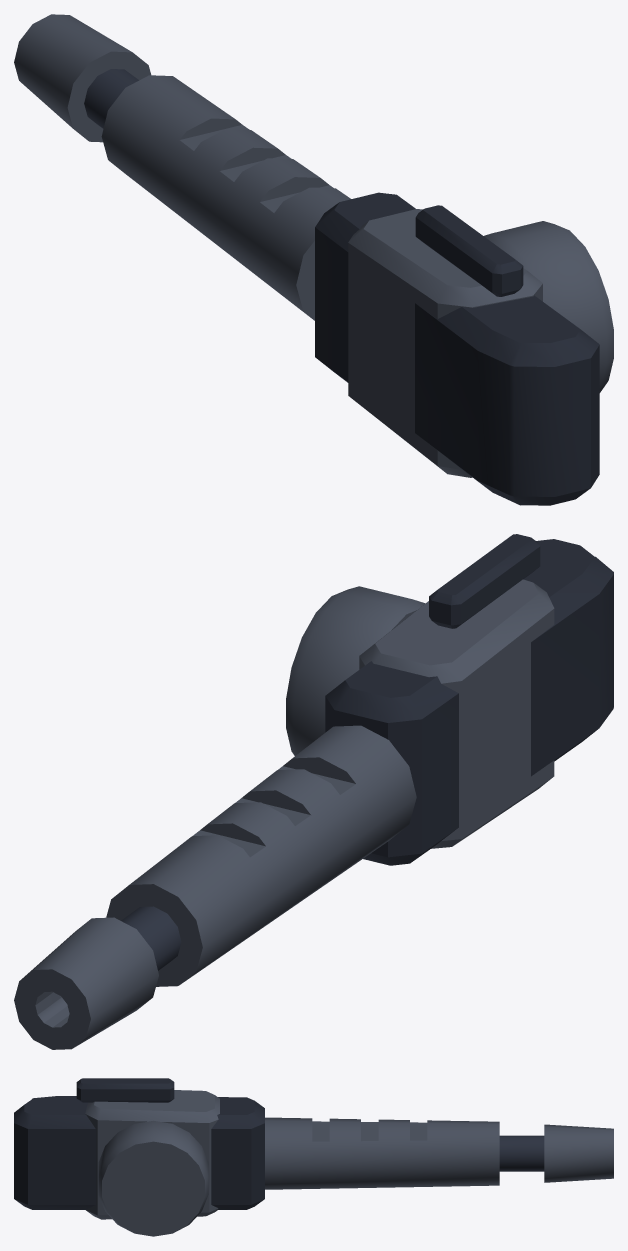
The model's file is w_a_support_gun.glb.
The picture shows the model from 3 angles, top to bottom: view 1: azimuth 30°, elevation 25°; view 2: azimuth 150°, elevation 25°; view 3: azimuth 270°, elevation 25°; orthographic projection. The views are drawn at different scales.
Parts seen in each view (by area): view 1: weapon_body, weapon_metal; view 2: weapon_body, weapon_metal; view 3: weapon_body, weapon_metal.
Part boxes in pixels (x1,y1,x2,y2): weapon_body: (14,14,613,505); weapon_metal: (84,69,138,128); weapon_body: (14,534,613,1049); weapon_metal: (121,906,181,970); weapon_body: (14,1078,613,1236); weapon_metal: (499,1135,544,1171).
Size of the model in its own units: 1.03 by 1.22 by 5.16.
